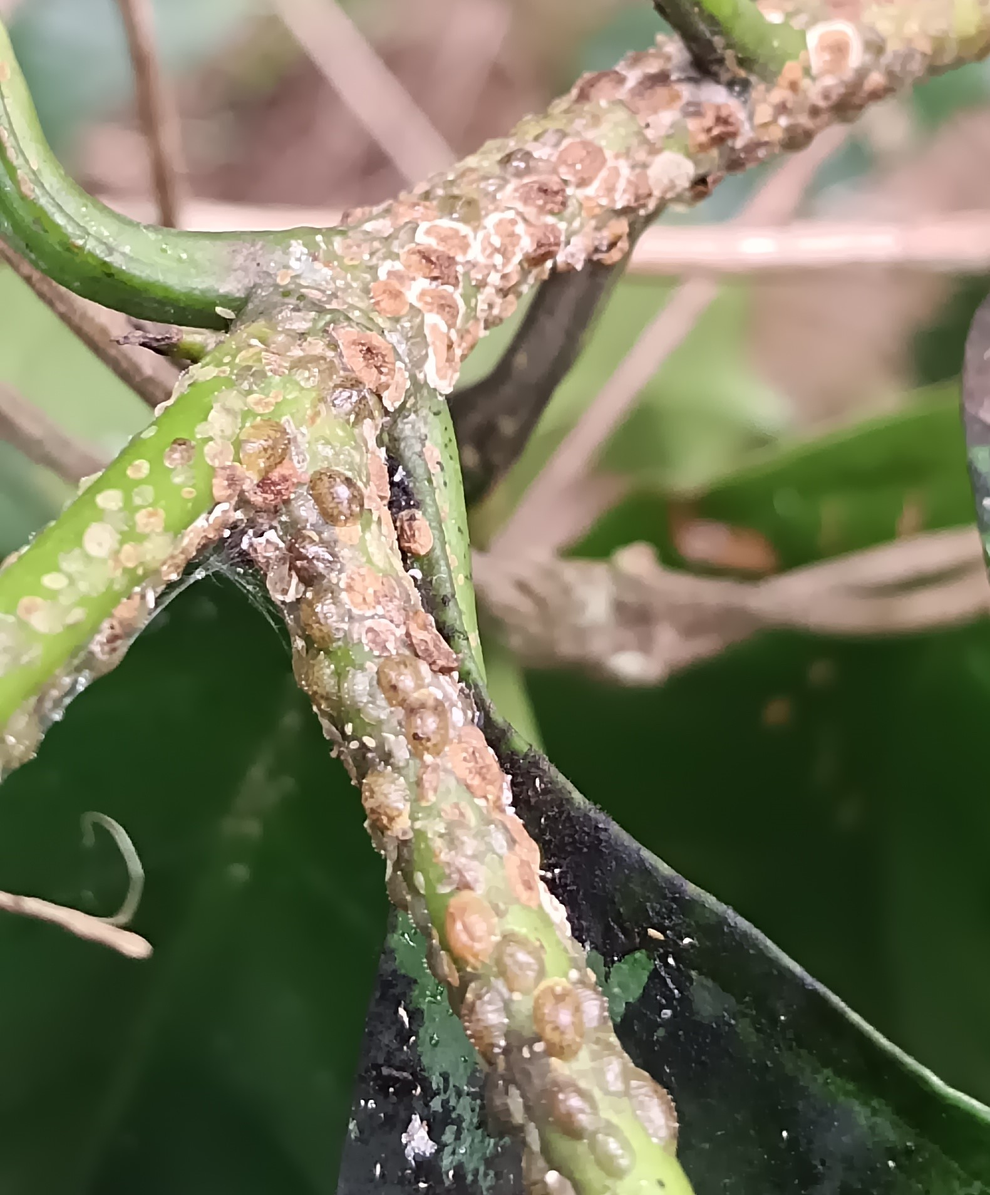Scale_Insect: (626, 1068, 680, 1150), (534, 982, 588, 1061), (444, 891, 500, 967), (462, 979, 510, 1059), (405, 692, 449, 763), (310, 469, 363, 527), (499, 930, 545, 993), (243, 421, 291, 481), (549, 1082, 598, 1137), (290, 531, 338, 586), (400, 246, 461, 288), (380, 656, 431, 706), (591, 1120, 634, 1178), (513, 178, 570, 219), (553, 141, 606, 185), (332, 376, 374, 423), (291, 354, 338, 389), (425, 222, 471, 253), (495, 217, 519, 267)
